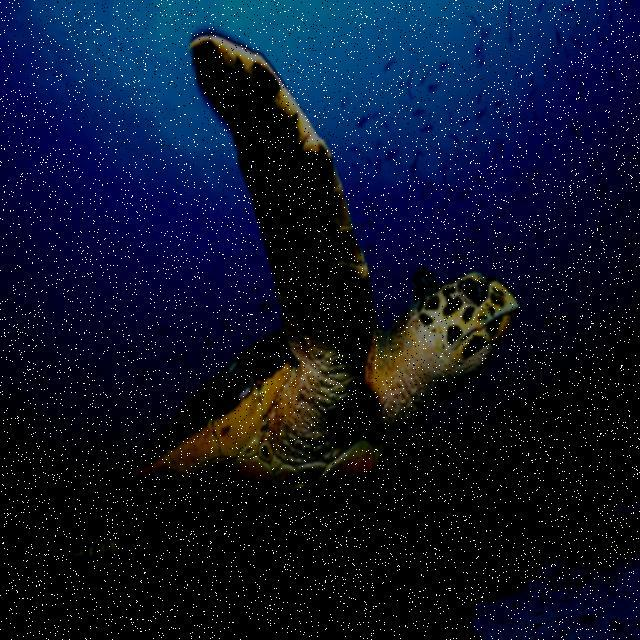tortoise: (170, 31, 522, 502)
